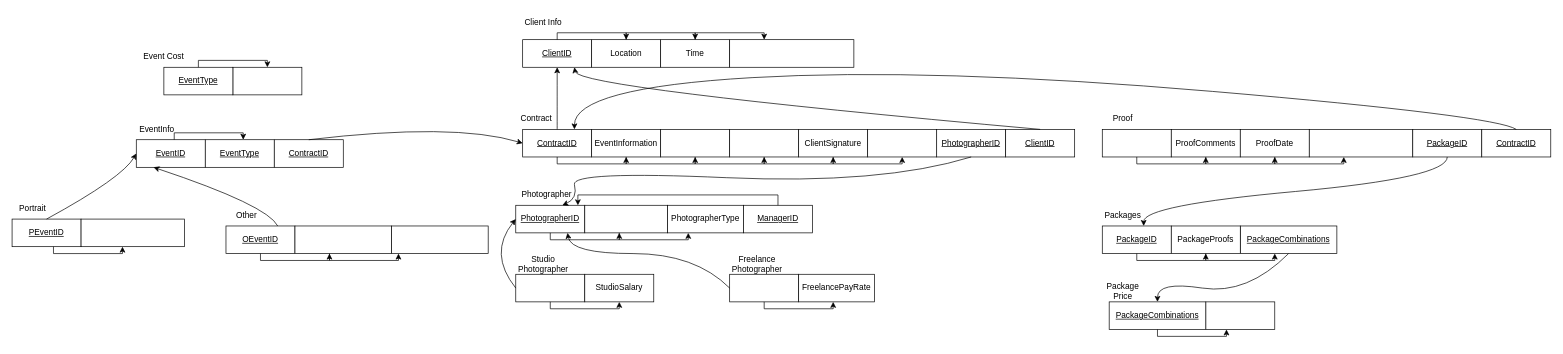
The diagram is 1563 pixels wide and 354 high, and some of its shapes have lost their labels. The centre of each missing label's shape, as x and y in pixels:
"AdditionalTimeRequested (Y, N)" belongs at point 1361,143.
"AssignedPhotographerID" belongs at point 132,232.
"AssistantPhotographerID" belongs at point 439,239.
"ClientDeposit" belongs at point 902,143.
"CostEstimate" belongs at point 267,81.
"FPhotographerID" belongs at point 764,288.
"PackagePrice" belongs at point 1240,315.
"PhotographerName" belongs at point 626,219.
"PreferredPhotographerName" belongs at point 791,53.
"PrimaryPhotographerID" belongs at point 343,239.
"ProofID" belongs at point 1136,143.
"SPhotographerID" belongs at point 550,288.
"StudioEstimate" belongs at point 695,143.
"TenativeBooking" belongs at point 764,143.
